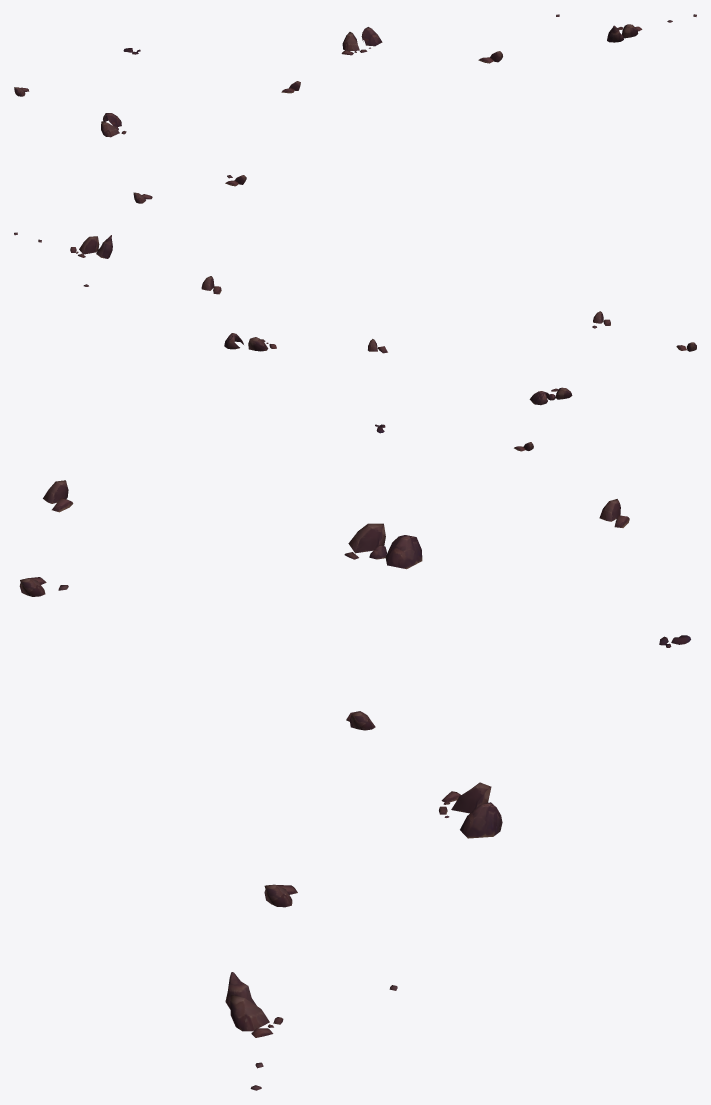
The model's file is area_07_shanshi01.FBX.
3 views of the same model, one above another, from view 1: azimuth 30°, elevation 25°; view 2: azimuth 150°, elevation 25°; view 3: azimuth 270°, elevation 25° (orthographic). The views are drawn at different scales.
Visible parts, largest first — view 1: area_07_shanshi01; view 2: area_07_shanshi01; view 3: area_07_shanshi01.
Part boxes in pixels (box(x1,y1,x2,y2)): area_07_shanshi01: box(14, 14, 696, 203); area_07_shanshi01: box(14, 232, 696, 451); area_07_shanshi01: box(19, 480, 690, 1090).
Bounding box in the file's own units: 11621 × 345 × 5517.
